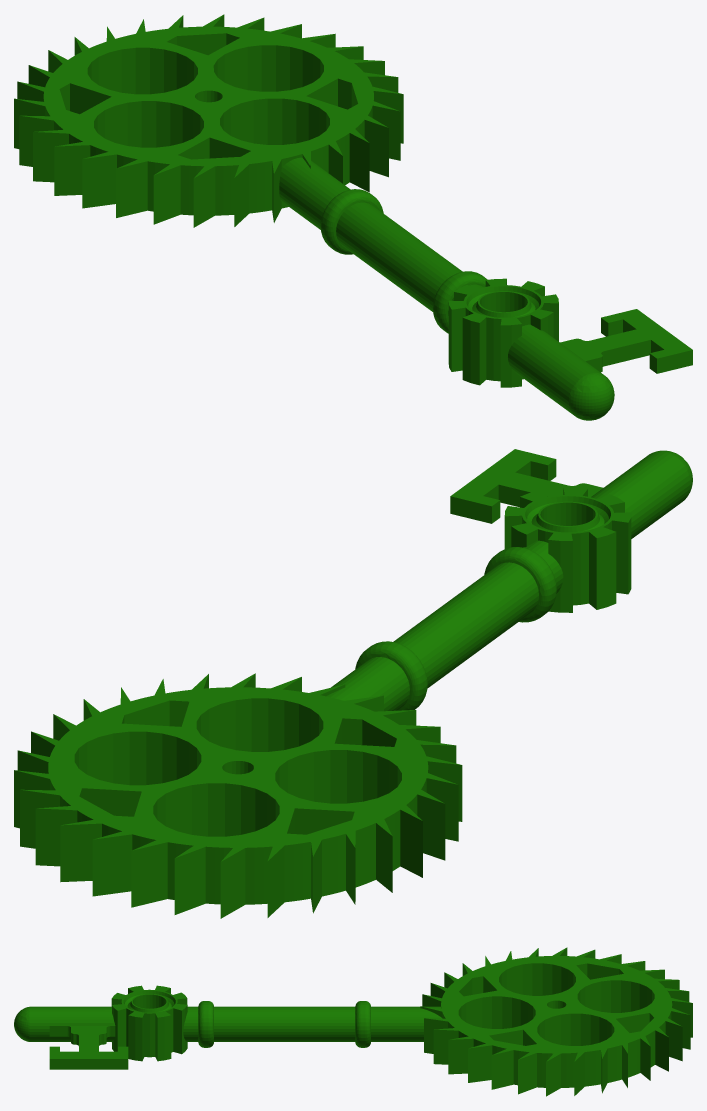
The model's file is Steampunk_Key6.stl.glb.
3 views of the same model, one above another, from view 1: azimuth 30°, elevation 25°; view 2: azimuth 150°, elevation 25°; view 3: azimuth 270°, elevation 25° (orthographic). The views are drawn at different scales.
Parts seen in each view (by area): view 1: Steampunk_Key6; view 2: Steampunk_Key6; view 3: Steampunk_Key6.
Boxes of the visible parts, x1,y1,x2,y2 form: Steampunk_Key6: (14,14,692,420); Steampunk_Key6: (14,449,692,918); Steampunk_Key6: (14,947,692,1096).
Bounding box in the file's own units: 52.89 × 9.37 × 132.
